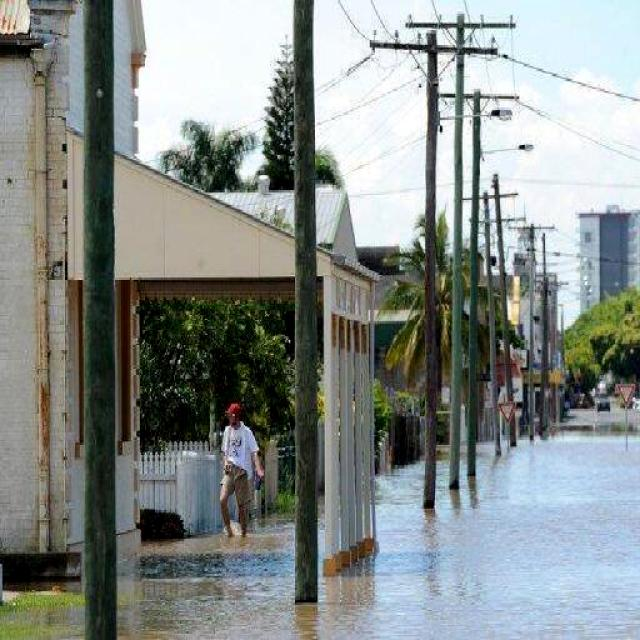civilian: (205, 386, 273, 552)
